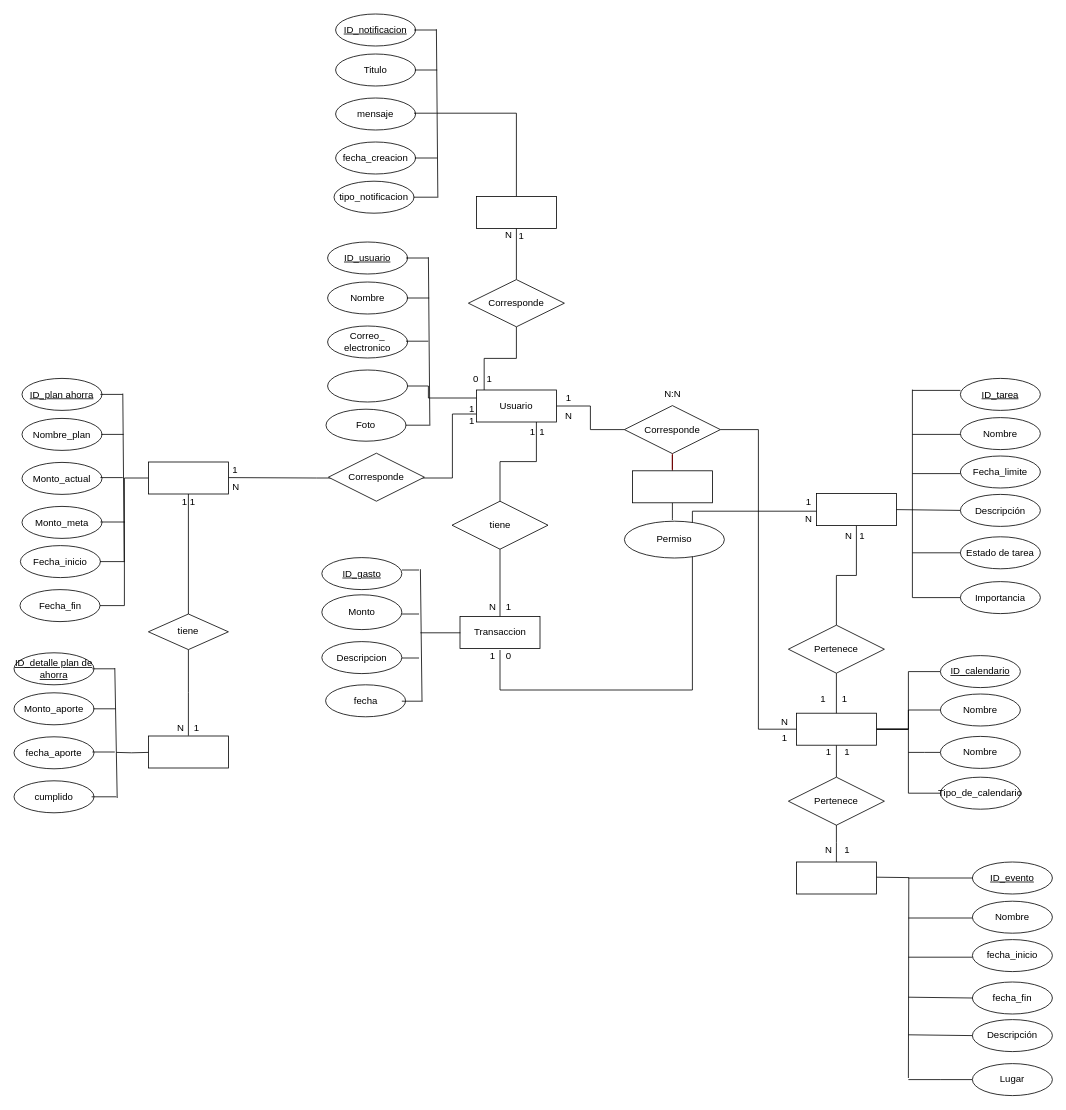
Some shapes in this 1066 by 1110 pixel diagram are drawn without their labels. The centre of each missing label's shape, as x and y in pixels:
"Calendario" goes at (x=836, y=728).
"Calendario_ compartido" goes at (x=672, y=486).
"Contraseña" goes at (x=367, y=385).
"detalle plan de ahorra" goes at (x=188, y=751).
"Evento" goes at (x=836, y=877).
"Notificacion" goes at (x=516, y=212).
"plan de ahorra" goes at (x=188, y=477).
"Tarea" goes at (x=856, y=509).
